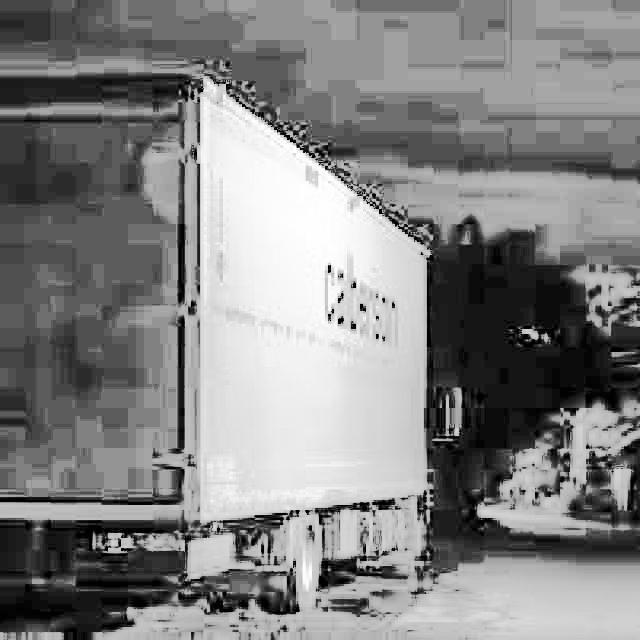Truck: (0, 71, 436, 617)
